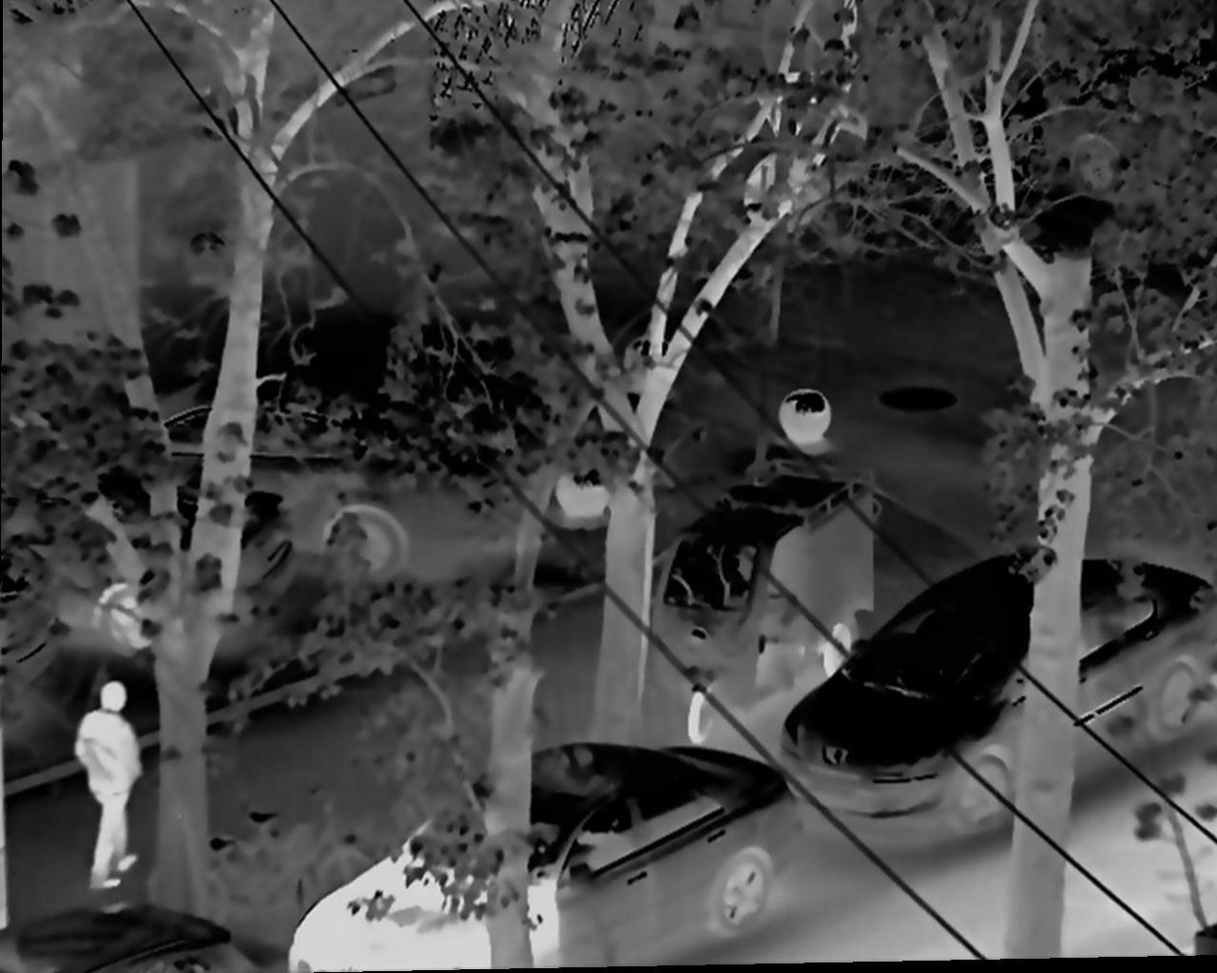person: (72, 683, 155, 896)
